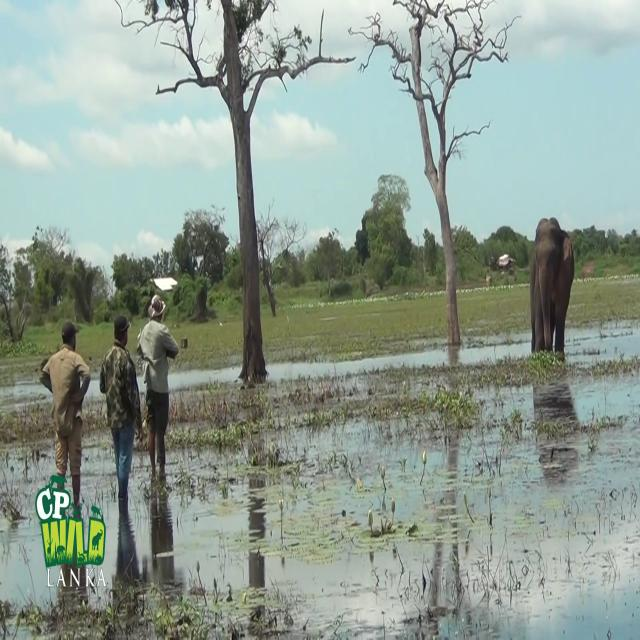Elephant: (530, 216, 574, 356)
person: (39, 320, 91, 511), (99, 314, 144, 502), (136, 294, 179, 480)
